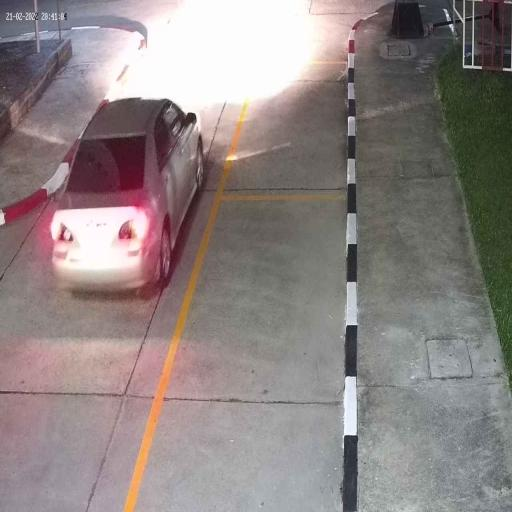car: (48, 99, 208, 294)
